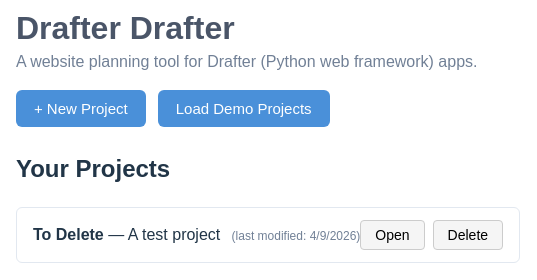
Scenario: Dashboard deletes project on delete button click
Expected: the text "To Delete" is shown, top-left (33, 226), bottom-right (104, 243)
Click the button "Delete" at coordinates (468, 235), box top-left (433, 220), bottom-right (503, 250)
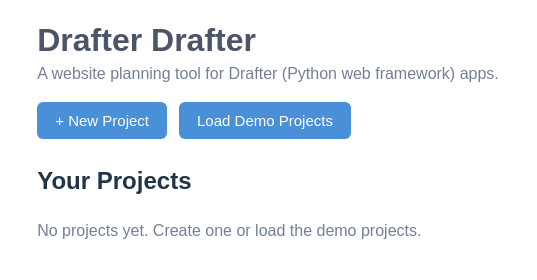
Expected: the text "To Delete" is gone
